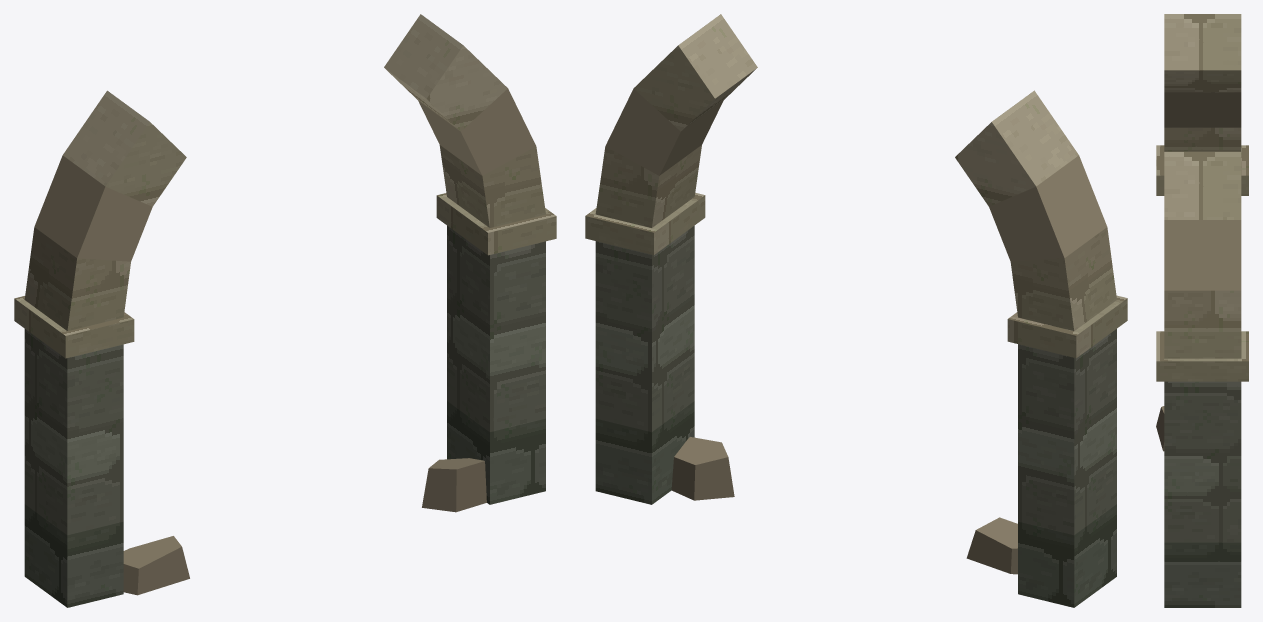
Rendered from fallen_arch_rib.glb.
The picture shows the model from 3 angles, left to right: view 1: azimuth 30°, elevation 25°; view 2: azimuth 150°, elevation 25°; view 3: azimuth 270°, elevation 25°; orthographic projection. The views are drawn at different scales.
Visible parts, largest first — view 1: Fallen arch rib; view 2: Fallen arch rib; view 3: Fallen arch rib.
Boxes of the visible parts, left/top/right/bottom form: Fallen arch rib: left=14, top=14, right=556, bottom=607; Fallen arch rib: left=585, top=14, right=1127, bottom=607; Fallen arch rib: left=1156, top=14, right=1248, bottom=607.
Bounding box in the file's own units: 2.05 × 1.86 × 0.3732.
5 materials, 3 textured.
